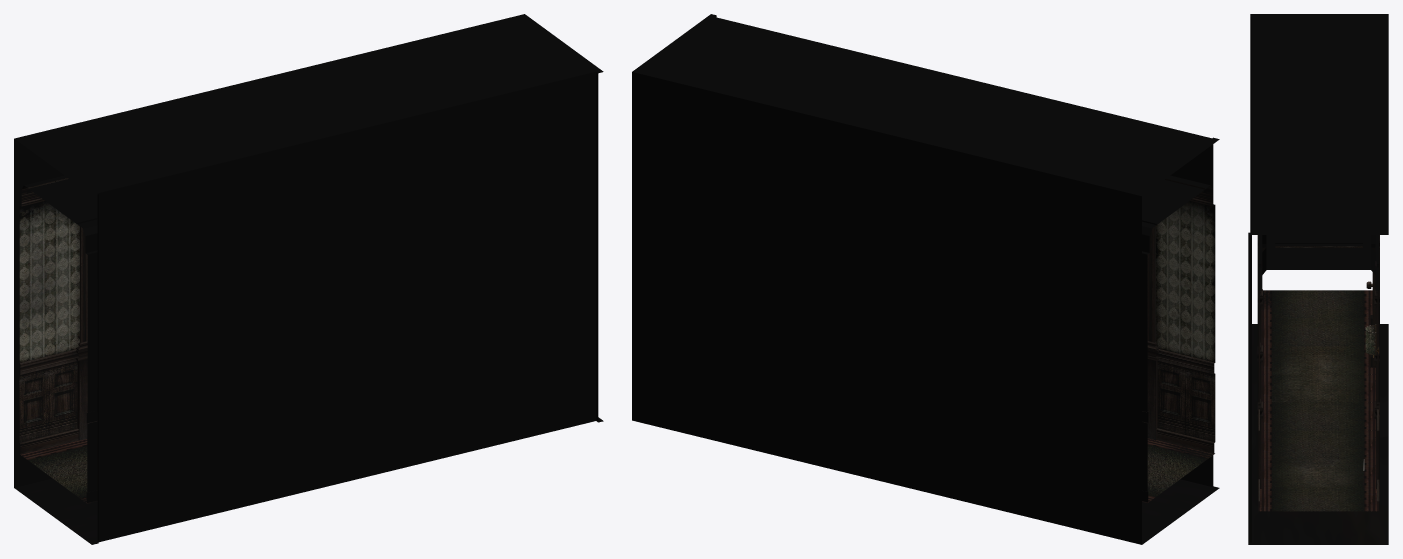
The model's file is hallway.glb.
The picture shows the model from 3 angles, left to right: view 1: azimuth 30°, elevation 25°; view 2: azimuth 150°, elevation 25°; view 3: azimuth 270°, elevation 25°; orthographic projection. The views are drawn at different scales.
Visible parts, largest first — view 1: skp6BB7; view 2: skp6BB7; view 3: skp6BB7.
Part boxes in pixels (bbox=[...]): skp6BB7: bbox=[14, 14, 603, 544]; skp6BB7: bbox=[632, 14, 1219, 544]; skp6BB7: bbox=[1248, 14, 1388, 544].
Bounding box in the file's own units: 11.76 × 7.68 × 3.16.
7 materials, 7 textured.
